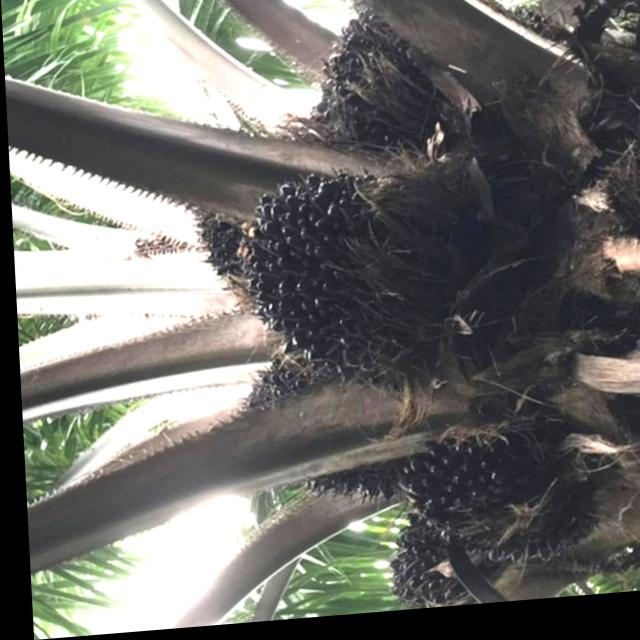ripe: (214, 158, 449, 414)
